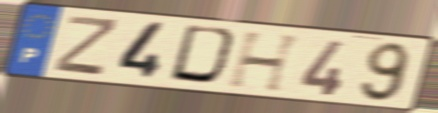4: (116, 19, 169, 83), (296, 36, 346, 99)
9: (357, 40, 415, 104)
D: (166, 23, 244, 89)
H: (225, 30, 307, 95)
Z: (50, 14, 121, 79)
